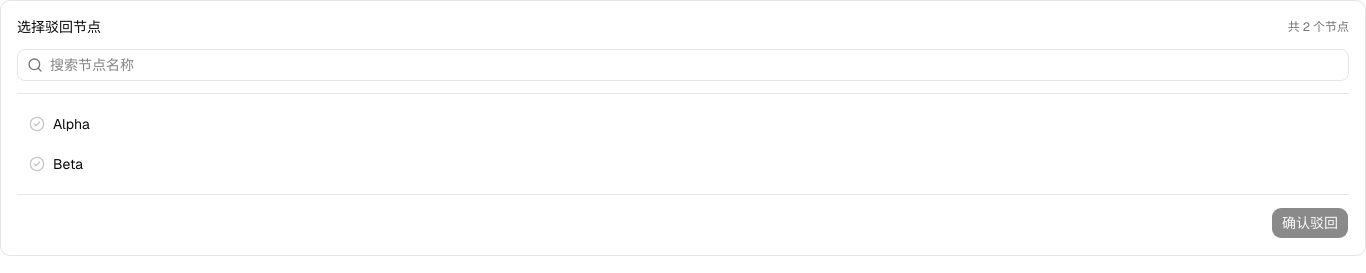
Test: RebutNodeSelect › respects case-insensitive search
Type "ALPHA" into the field labelled "搜索节点名称".
click(683, 65); type("ALPHA")  # box [17,49,1349,81]
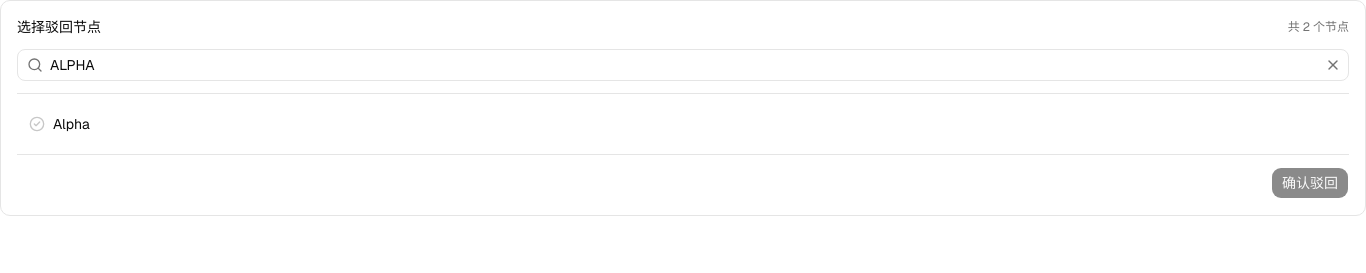
Check: the text "Alpha" is shown, box [53,115,90,133]
Check: the button "Beta" is gone
